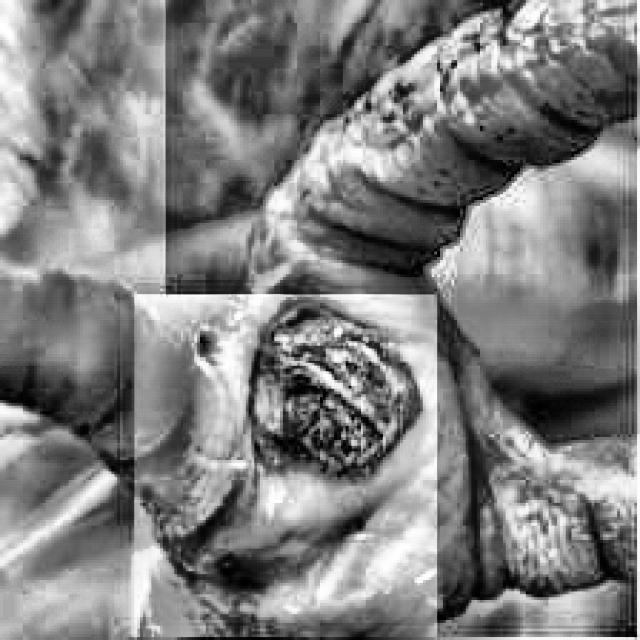Bumble foot: (243, 303, 423, 483)
